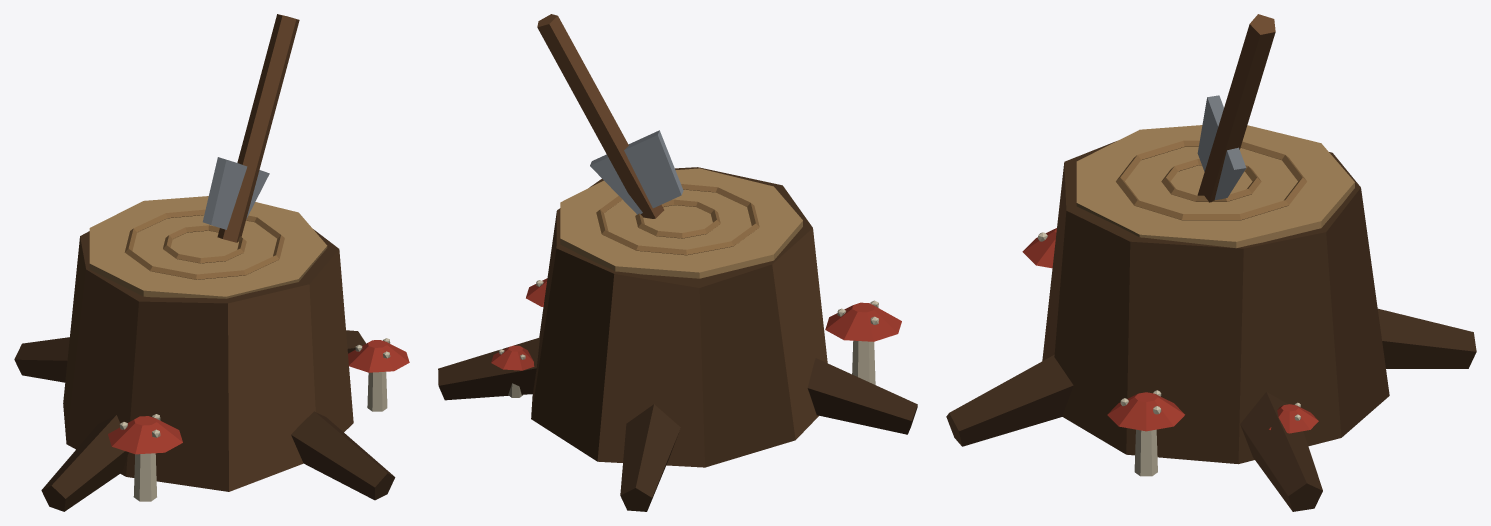
Rendered from stump.glb.
3 renders of one model, left to right at view 1: azimuth 30°, elevation 25°; view 2: azimuth 150°, elevation 25°; view 3: azimuth 270°, elevation 25°, orthographic. The views are drawn at different scales.
Visible parts, largest first — view 1: Stump; view 2: Stump; view 3: Stump.
Part boxes in pixels (bbox=[...]): Stump: bbox=[14, 14, 409, 511]; Stump: bbox=[438, 14, 917, 511]; Stump: bbox=[946, 14, 1476, 511].
Size of the model in its own units: 0.8136 by 0.78 by 0.8136.
